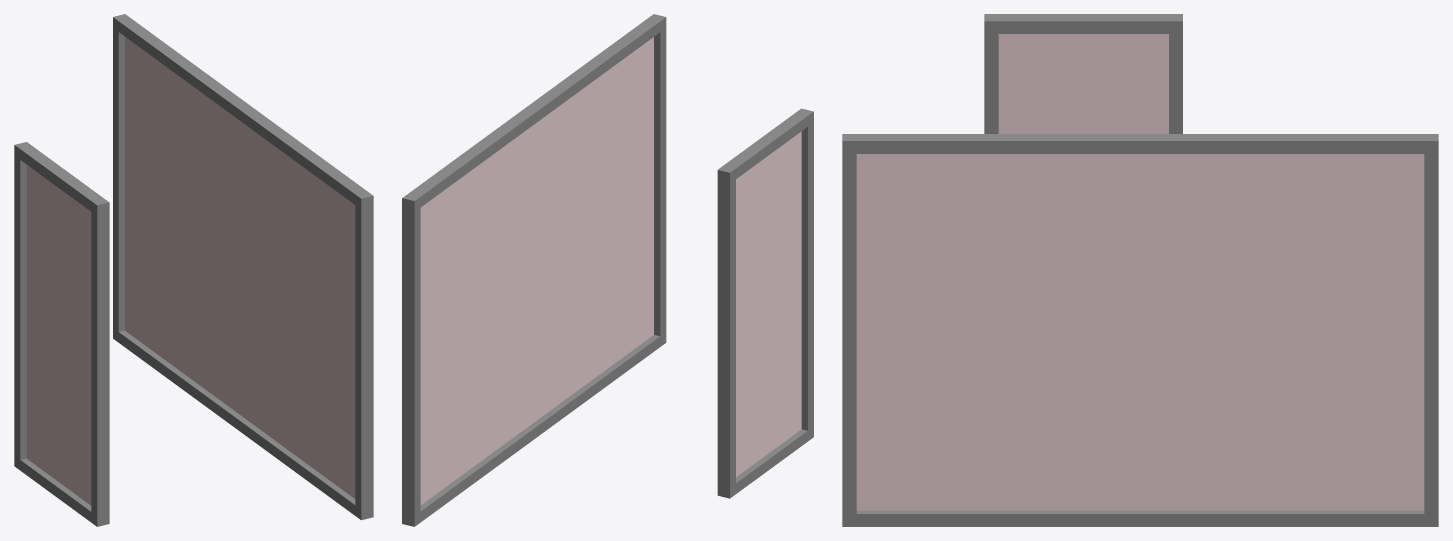
The model's file is Cubic_Walls.fbx.
3 renders of one model, left to right at view 1: azimuth 30°, elevation 25°; view 2: azimuth 150°, elevation 25°; view 3: azimuth 270°, elevation 25°, orthographic. The views are drawn at different scales.
Parts seen in each view (by area): view 1: Cubicle_Wall, Cubicle_Wall_Half.001; view 2: Cubicle_Wall, Cubicle_Wall_Half.001; view 3: Cubicle_Wall, Cubicle_Wall_Half.001.
Boxes of the visible parts, <box> form: Cubicle_Wall: <box>113,14,373,520</box>; Cubicle_Wall_Half.001: <box>14,142,109,526</box>; Cubicle_Wall: <box>402,14,666,526</box>; Cubicle_Wall_Half.001: <box>717,108,813,498</box>; Cubicle_Wall: <box>842,134,1438,526</box>; Cubicle_Wall_Half.001: <box>984,14,1182,133</box>.
Bounding box in the file's own units: 106 × 150 × 210.
